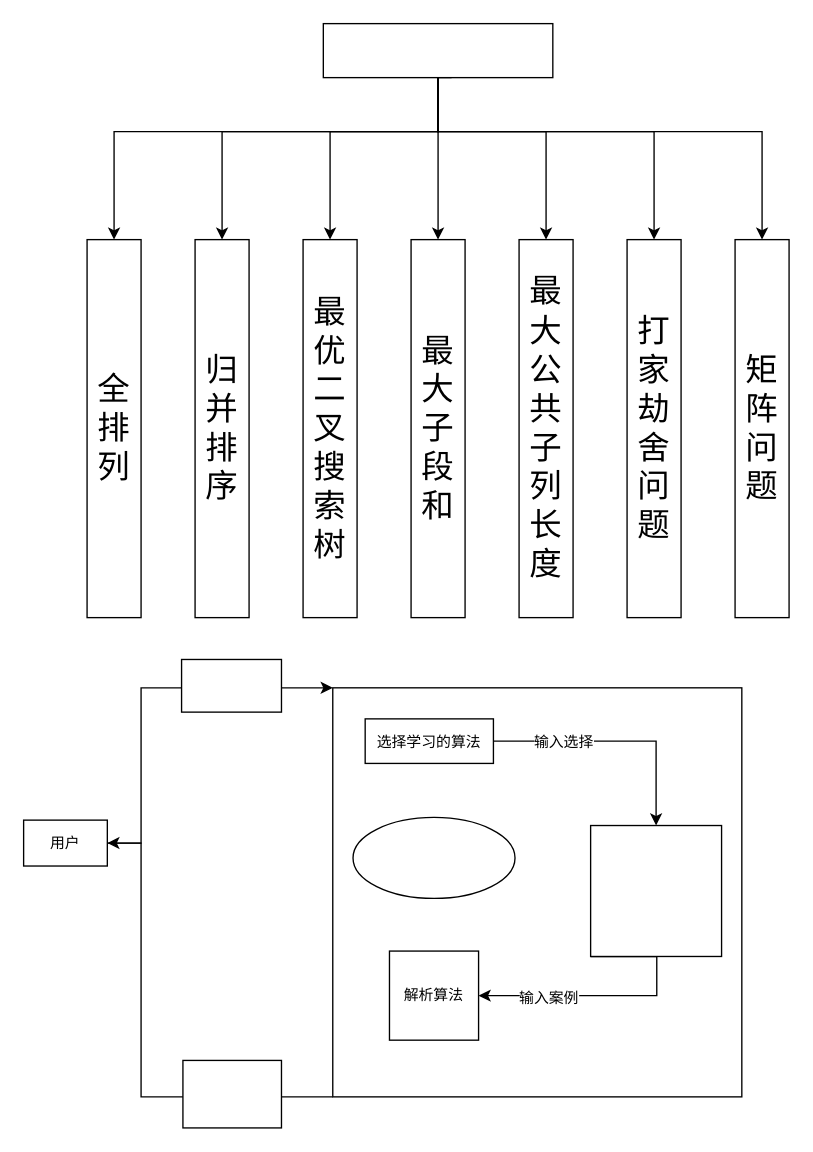
Image size: 813x1152. Some labels were removed from this diagram. Each missing label, with the box of its shape:
主系统: (352, 816, 515, 898)
学习算法: (182, 1059, 281, 1128)
程序响应与解析: (589, 824, 722, 956)
算法解析: (322, 22, 553, 78)
进入系统: (180, 658, 281, 712)
